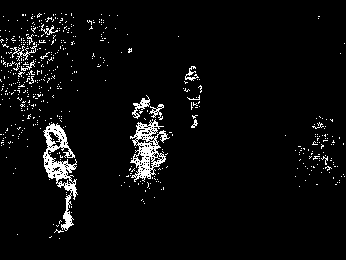person: (33, 122, 79, 224), (182, 62, 203, 129)
